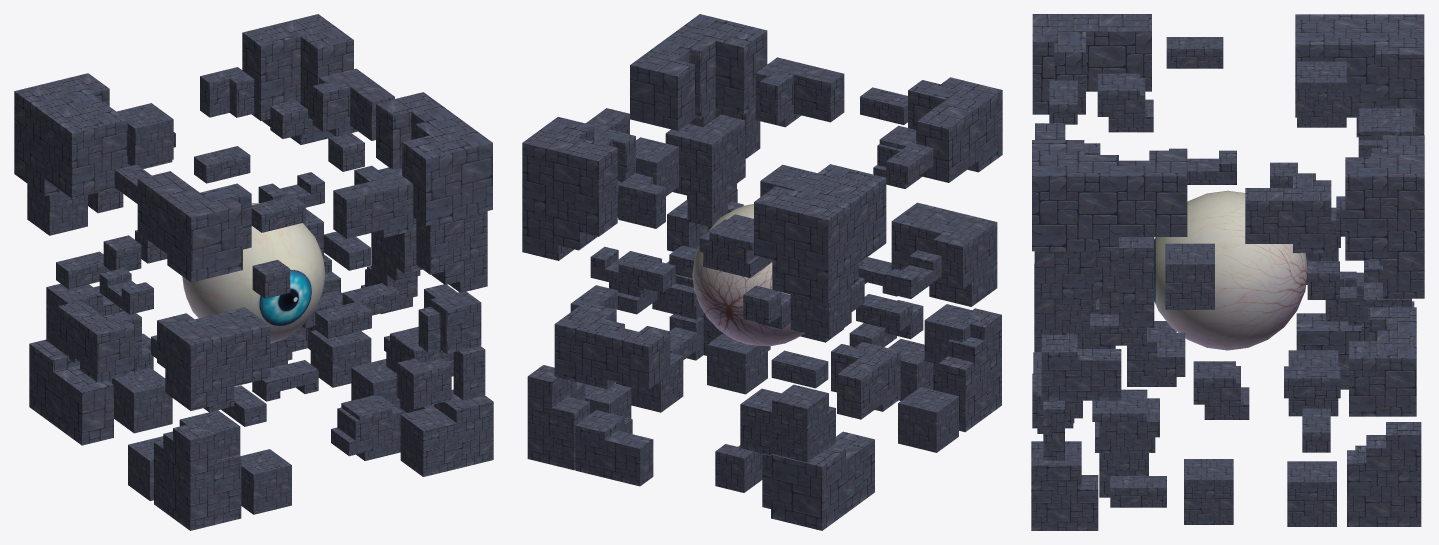
The model's file is TEX.FBX.
3 views of the same model, side by side, from view 1: azimuth 30°, elevation 25°; view 2: azimuth 150°, elevation 25°; view 3: azimuth 270°, elevation 25° (orthographic). The views are drawn at different scales.
Parts seen in each view (by area): view 1: shitou, Object001; view 2: shitou, Object001; view 3: shitou, Object001.
Boxes of the visible parts, x1,y1,x2,y2 form: shitou: (14, 14, 493, 530); Object001: (182, 203, 325, 343); shitou: (522, 14, 1002, 530); Object001: (692, 204, 805, 346); shitou: (1031, 14, 1424, 530); Object001: (1154, 190, 1307, 350).
Bounding box in the file's own units: 9793 × 9789 × 9814.
